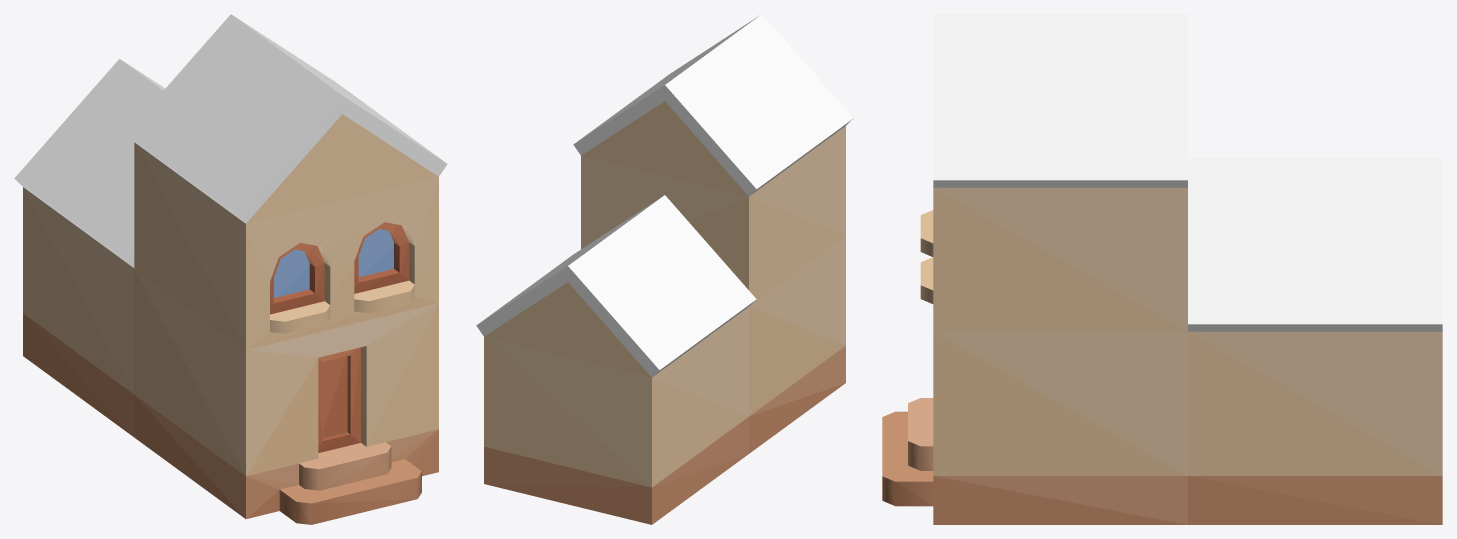
The model's file is house-b.obj.
3 views of the same model, side by side, from view 1: azimuth 30°, elevation 25°; view 2: azimuth 150°, elevation 25°; view 3: azimuth 270°, elevation 25° (orthographic). The views are drawn at different scales.
Bounding box in the file's own units: 1.09 × 1.98 × 2.2.
